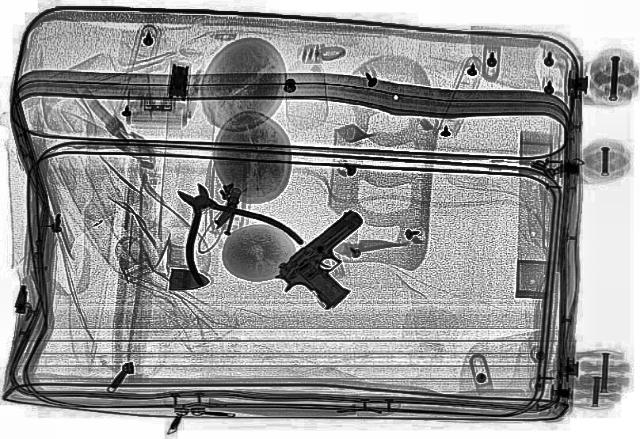Gun: (260, 208, 412, 310)
Pliers: (129, 167, 311, 287)
